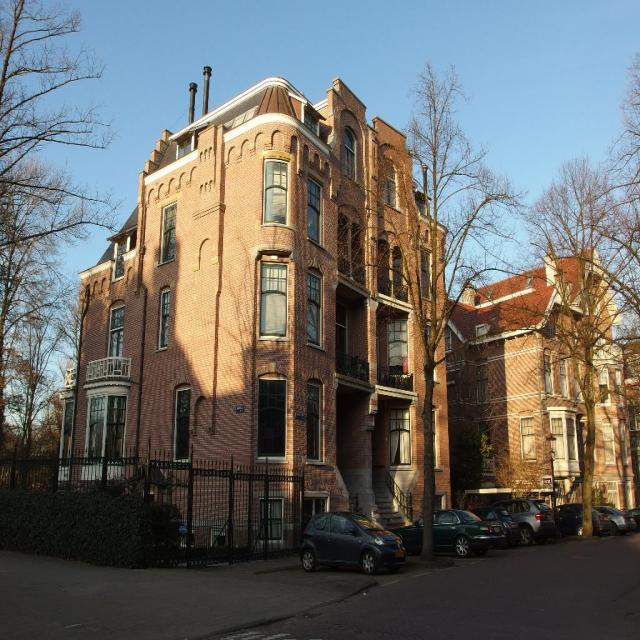car: (296, 504, 400, 578)
